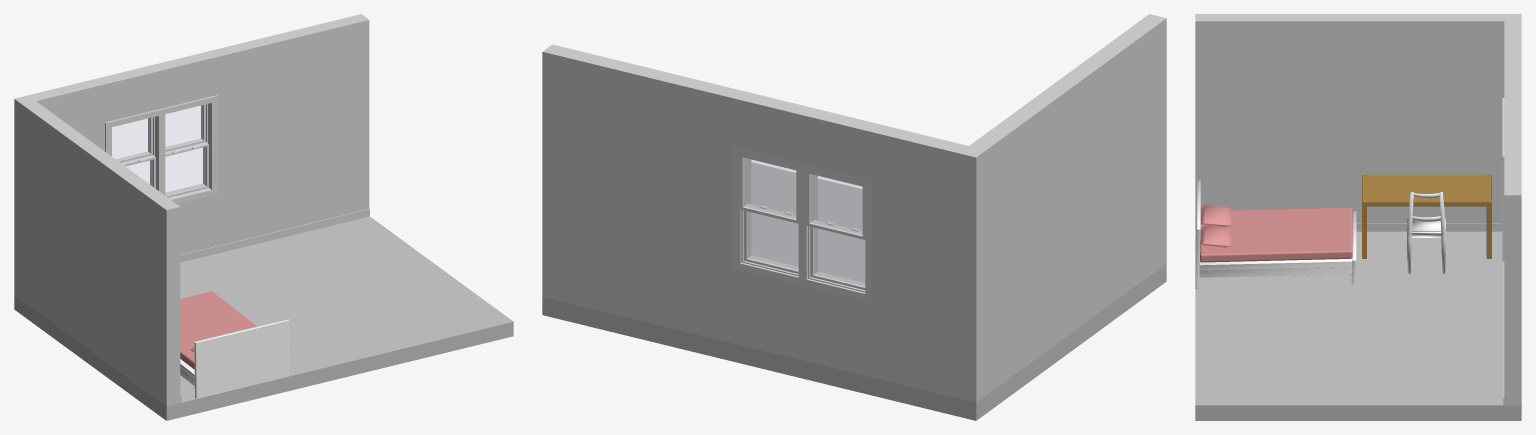
The model's file is L12_W16_furniture2_privacy2.glb.
3 renders of one model, left to right at view 1: azimuth 30°, elevation 25°; view 2: azimuth 150°, elevation 25°; view 3: azimuth 270°, elevation 25°, orthographic. The views are drawn at different scales.
Size of the model in its own units: 200 by 116 by 152.
